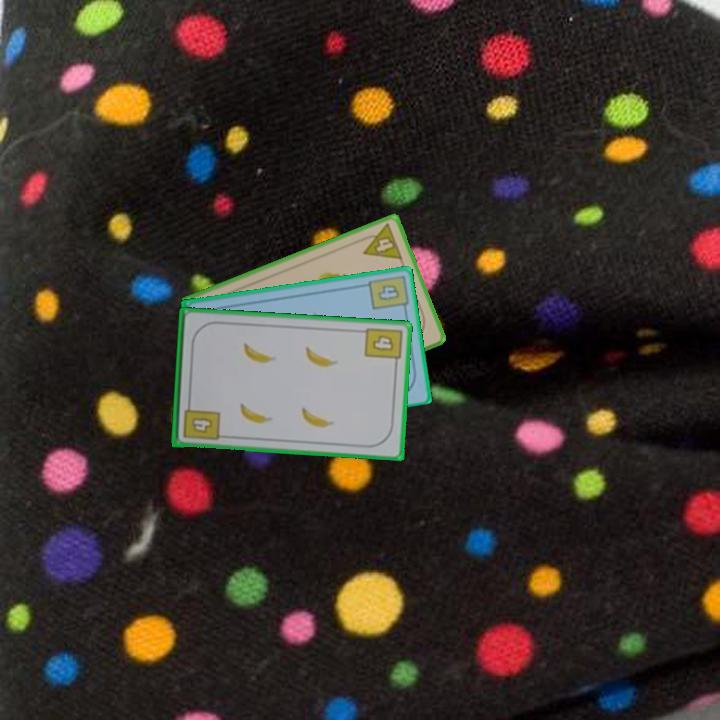4b: (364, 271, 410, 315), (361, 324, 405, 369), (179, 398, 222, 443)
4p: (355, 220, 405, 263)
